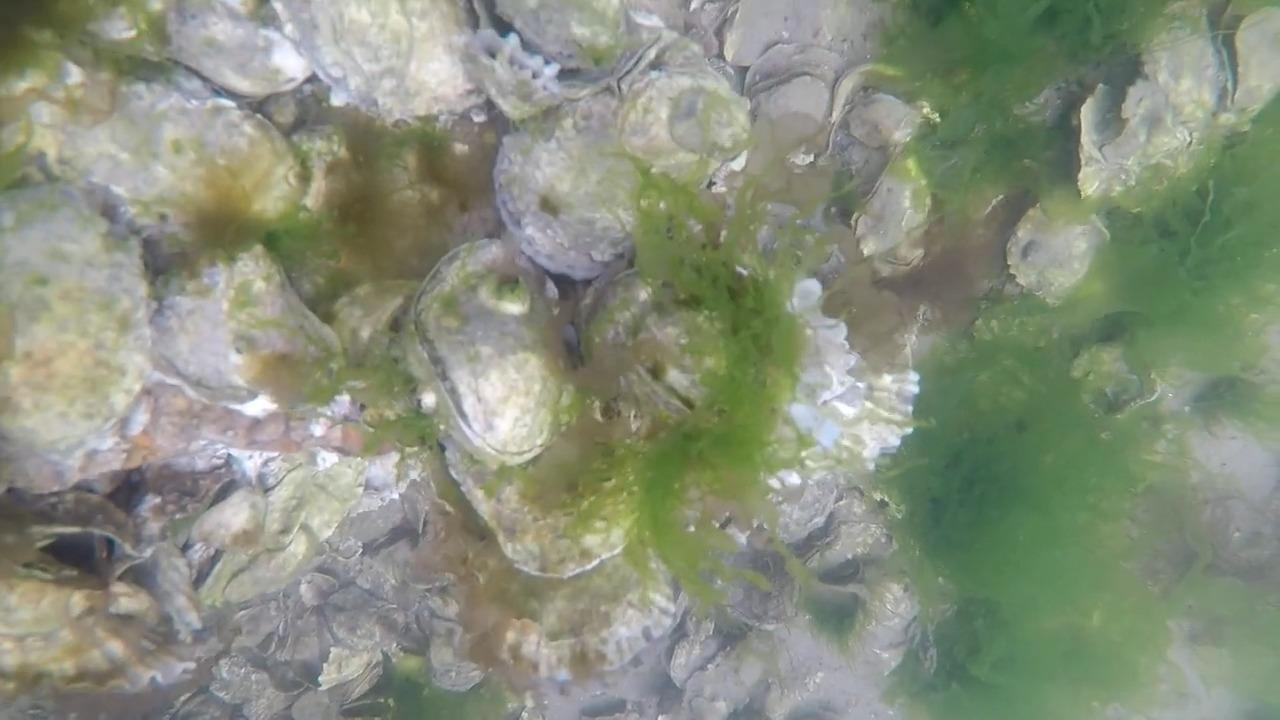Oyster: (0, 191, 148, 458), (412, 239, 562, 464), (104, 94, 318, 247), (454, 438, 654, 584), (189, 458, 369, 606), (193, 245, 350, 411), (492, 113, 643, 276), (1112, 17, 1237, 185), (1168, 413, 1280, 573), (618, 66, 748, 179), (166, 1, 315, 99), (849, 155, 941, 270), (1007, 203, 1108, 302), (1067, 320, 1160, 418), (129, 544, 204, 639), (315, 651, 388, 709)
